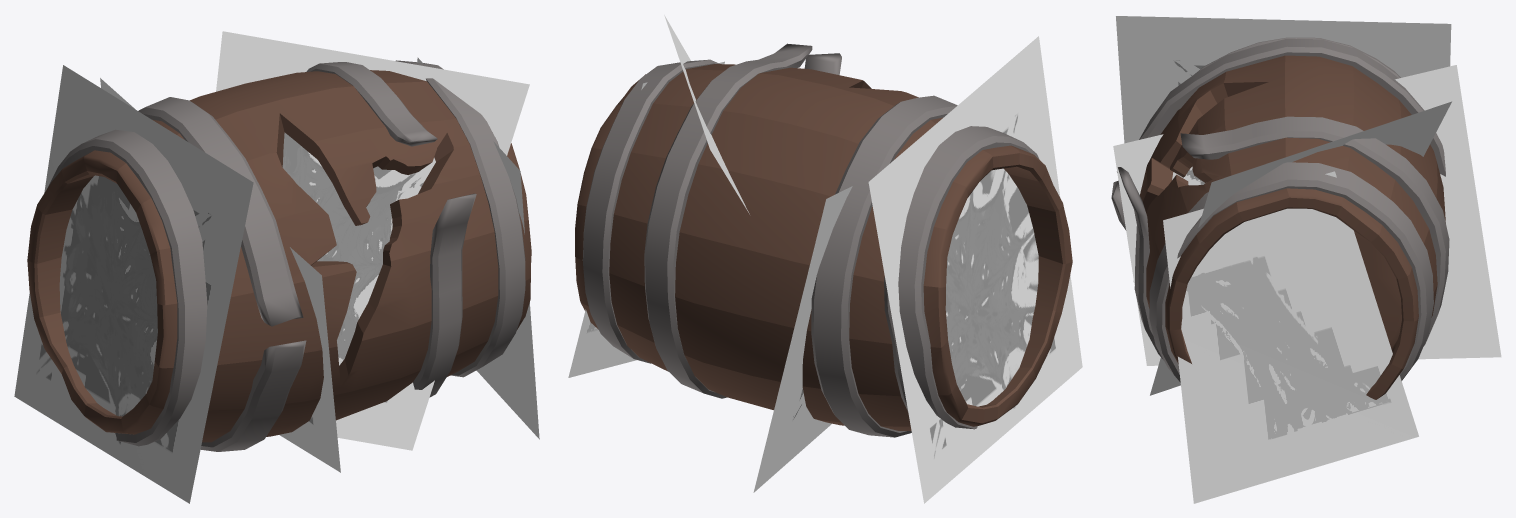
Rendered from barrel_broken_model.fbx.
3 renders of one model, left to right at view 1: azimuth 30°, elevation 25°; view 2: azimuth 150°, elevation 25°; view 3: azimuth 270°, elevation 25°, orthographic. The views are drawn at different scales.
Visible parts, largest first — view 1: lp.001, spiderweb.003, spiderweb.004, lp.005, lp.004, lp.006, lp.007, spiderweb.001, spiderweb.002; view 2: lp.001, spiderweb.003, lp.005, lp.006, lp.004, lp.007, spiderweb.002, spiderweb.001, spiderweb.004; view 3: spiderweb.001, lp.001, spiderweb.003, spiderweb.002, lp.006, lp.007, lp.005, spiderweb.004, lp.003, lp.004.
Part boxes in pixels (<box>): lp.001: <box>27,70,531,442</box>; spiderweb.003: <box>14,65,253,503</box>; spiderweb.004: <box>216,31,529,450</box>; lp.005: <box>138,97,306,451</box>; lp.004: <box>47,129,207,446</box>; lp.006: <box>306,62,476,397</box>; lp.007: <box>396,60,525,377</box>; spiderweb.001: <box>417,57,539,439</box>; spiderweb.002: <box>100,78,340,472</box>; lp.001: <box>575,64,1072,430</box>; spiderweb.003: <box>868,36,1082,503</box>; lp.005: <box>811,95,957,437</box>; lp.006: <box>644,43,841,398</box>; lp.004: <box>884,126,1039,429</box>; lp.007: <box>582,59,719,363</box>; spiderweb.002: <box>753,186,852,492</box>; spiderweb.001: <box>568,61,724,377</box>; spiderweb.004: <box>664,15,749,214</box>; spiderweb.001: <box>1163,171,1418,503</box>; lp.001: <box>1140,55,1445,399</box>; spiderweb.003: <box>1116,16,1451,281</box>; spiderweb.002: <box>1113,65,1501,365</box>; lp.006: <box>1118,116,1449,358</box>; lp.007: <box>1149,162,1433,382</box>; lp.005: <box>1111,38,1445,230</box>; spiderweb.004: <box>1150,101,1451,395</box>; lp.003: <box>1354,231,1401,348</box>; lp.004: <box>1195,37,1400,78</box>.
Bounding box in the file's own units: 151 × 141 × 141.
